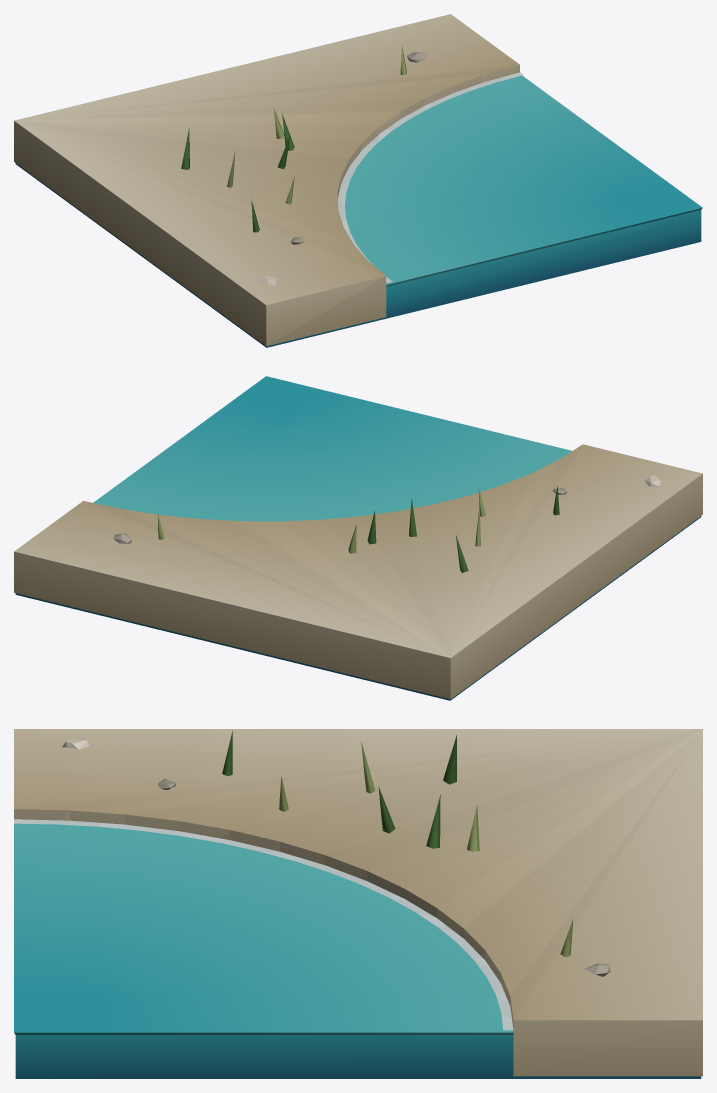
The model's file is shore-corner-in.glb.
The picture shows the model from 3 angles, top to bottom: view 1: azimuth 30°, elevation 25°; view 2: azimuth 150°, elevation 25°; view 3: azimuth 270°, elevation 25°; orthographic projection. The views are drawn at different scales.
Parts seen in each view (by area): view 1: shore_corner_in; view 2: shore_corner_in; view 3: shore_corner_in.
Part boxes in pixels (x1=…): shore_corner_in: x1=14, y1=14, x2=702, y2=347; shore_corner_in: x1=14, y1=376, x2=702, y2=700; shore_corner_in: x1=14, y1=729, x2=702, y2=1078.
Bounding box in the file's own units: 4 × 0.7171 × 4.
